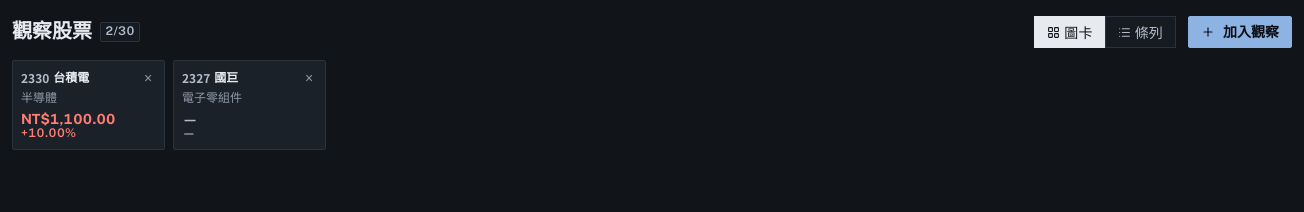
Test: WatchSection (Dashboard) › 可切換為條列模式並記憶在 localStorage，且顯示分類徽章
The image size is (1304, 212).
Check: the text "台積電" is shown, box [53,71,89,85]
Note: Click table mode button
Click the button with aria-label "條列模式" at {"x": 1140, "y": 32}, box [1105,16,1176,48]
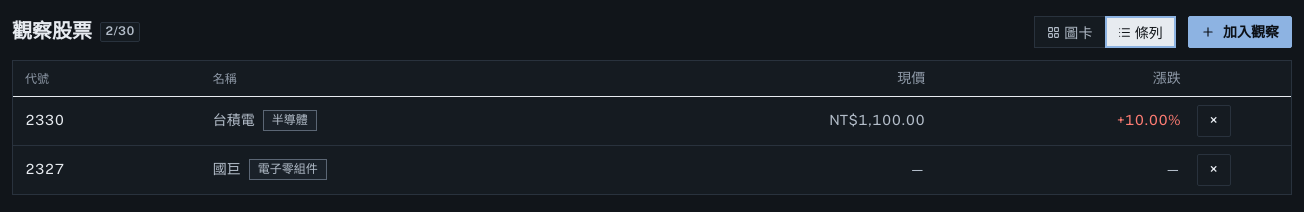
Check: the text "半導體" is shown, box [263,110,317,131]
Check: the element with test id "watchlist-table" is shown
Check: the button with test id "watch-row-2330" is shown, box [13,96,1291,145]
